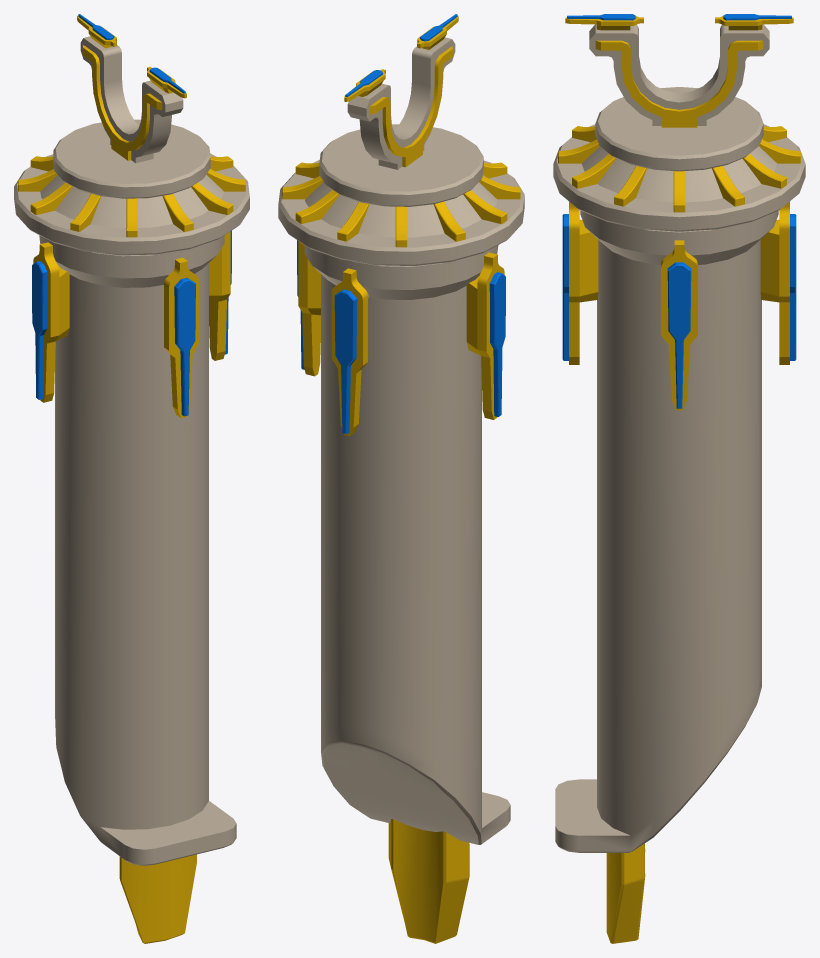
The model's file is mesh_pillar_03.fbx.
The picture shows the model from 3 angles, left to right: view 1: azimuth 30°, elevation 25°; view 2: azimuth 150°, elevation 25°; view 3: azimuth 270°, elevation 25°; orthographic projection. The views are drawn at different scales.
Parts seen in each view (by area): view 1: mesh_pillar_03; view 2: mesh_pillar_03; view 3: mesh_pillar_03.
Part boxes in pixels (x1,y1,x2,y2): mesh_pillar_03: (14,14,249,943); mesh_pillar_03: (278,14,524,943); mesh_pillar_03: (553,14,805,943).
Size of the model in its own units: 0.0712 by 0.2862 by 0.0712.
